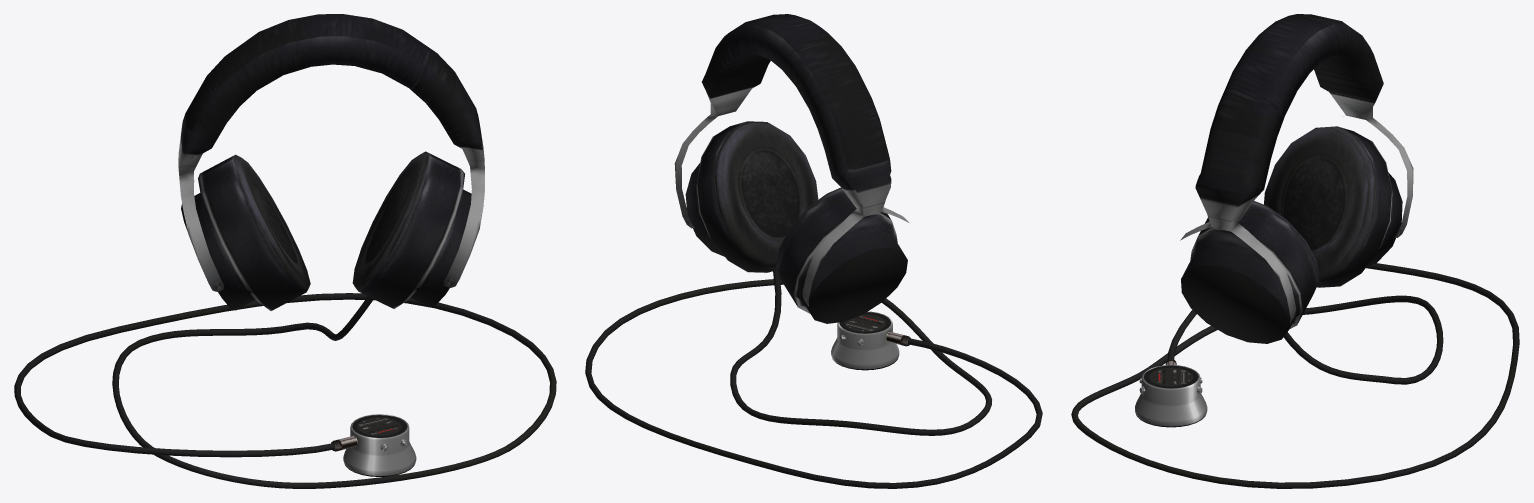
File: TLOneStethoscope.glb
The picture shows the model from 3 angles, left to right: view 1: azimuth 30°, elevation 25°; view 2: azimuth 150°, elevation 25°; view 3: azimuth 270°, elevation 25°; orthographic projection. The views are drawn at different scales.
Visible parts, largest first — view 1: TLOneStethoscope_headphones, TLOneStethoscope, TLOneStethoscopeGlass, TLOneStethoscopeScreen; view 2: TLOneStethoscope_headphones, TLOneStethoscope, TLOneStethoscopeScreen, TLOneStethoscopeGlass; view 3: TLOneStethoscope_headphones, TLOneStethoscope, TLOneStethoscopeGlass, TLOneStethoscopeScreen.
Boxes of the visible parts, <box> form: TLOneStethoscope_headphones: <box>14,14,556,488</box>; TLOneStethoscope: <box>343,414,416,476</box>; TLOneStethoscopeGlass: <box>352,414,407,437</box>; TLOneStethoscopeScreen: <box>352,415,407,437</box>; TLOneStethoscope_headphones: <box>585,14,1042,488</box>; TLOneStethoscope: <box>831,311,899,370</box>; TLOneStethoscopeScreen: <box>839,312,890,333</box>; TLOneStethoscopeGlass: <box>839,312,891,333</box>; TLOneStethoscope_headphones: <box>1071,14,1519,488</box>; TLOneStethoscope: <box>1135,365,1207,427</box>; TLOneStethoscopeGlass: <box>1143,365,1198,388</box>; TLOneStethoscopeScreen: <box>1144,365,1198,388</box>.
Bounding box in the file's own units: 0.3133 × 0.2543 × 0.2645.
4 materials, 3 textured.
